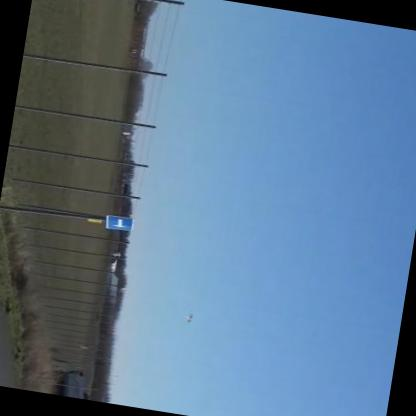plane: (177, 307, 202, 330)
